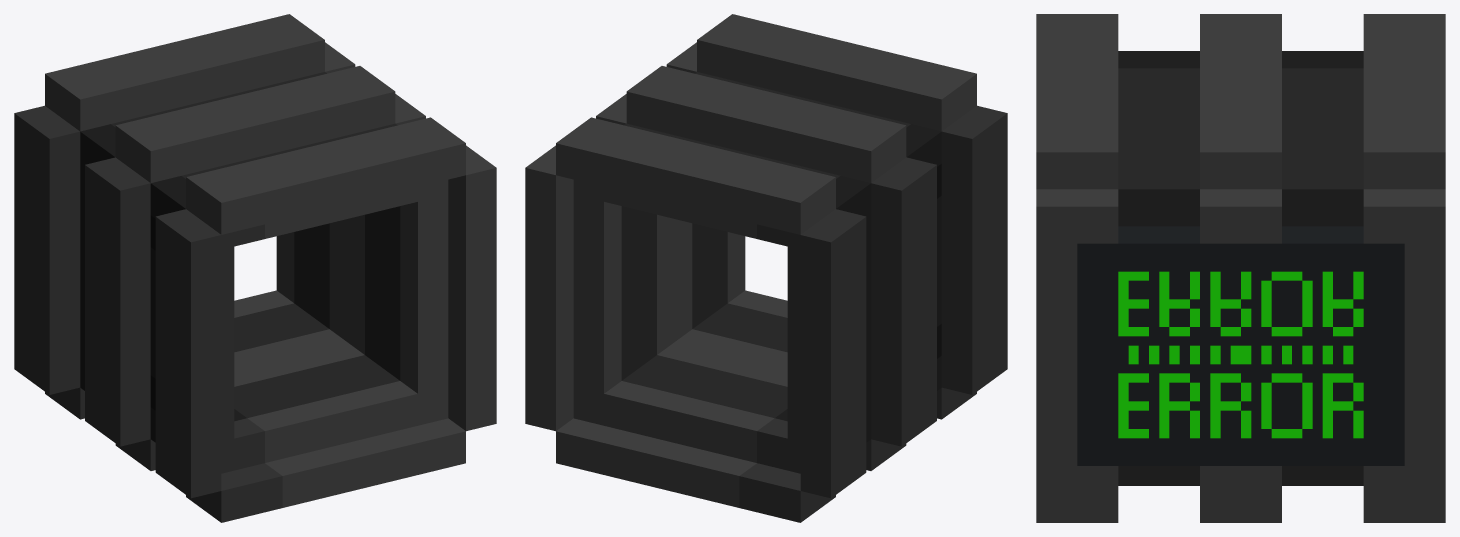
The model's file is pocketComputer.obj.
The picture shows the model from 3 angles, left to right: view 1: azimuth 30°, elevation 25°; view 2: azimuth 150°, elevation 25°; view 3: azimuth 270°, elevation 25°; orthographic projection. The views are drawn at different scales.
Size of the model in its own units: 4 by 4 by 4.
1 material, 1 textured.
